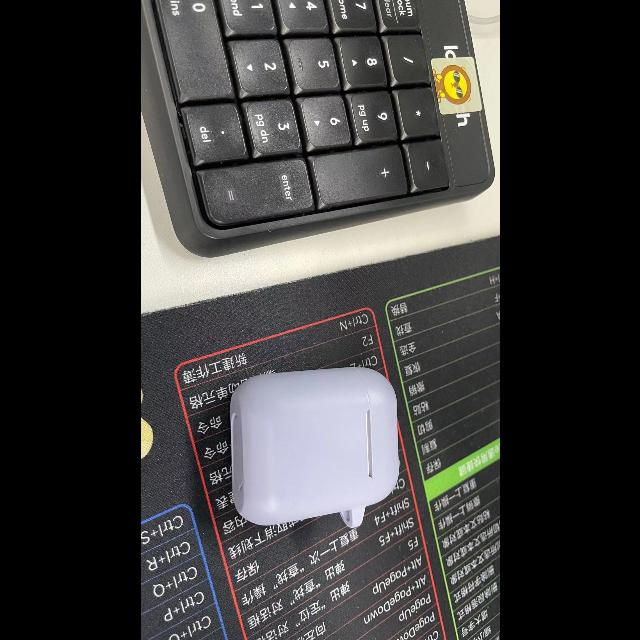airpods: (228, 366, 402, 531)
